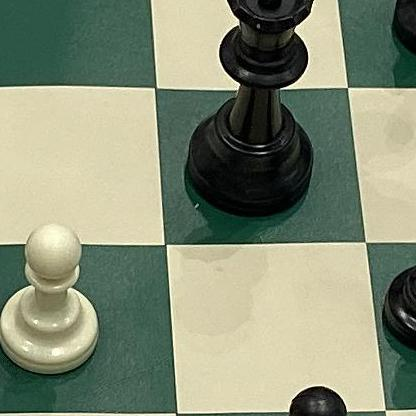black-pawn: (372, 197, 416, 356), (243, 372, 365, 416)
black-queen: (180, 0, 329, 225)
white-pawn: (0, 214, 110, 384)
